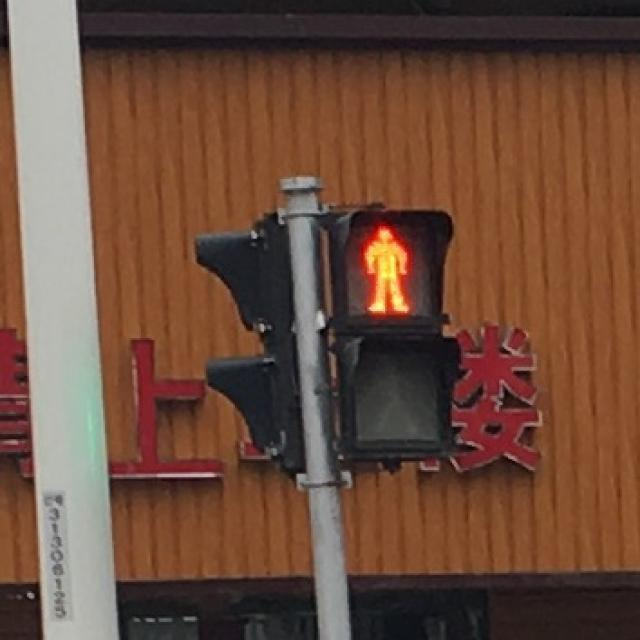red-crossing: (346, 215, 428, 324)
